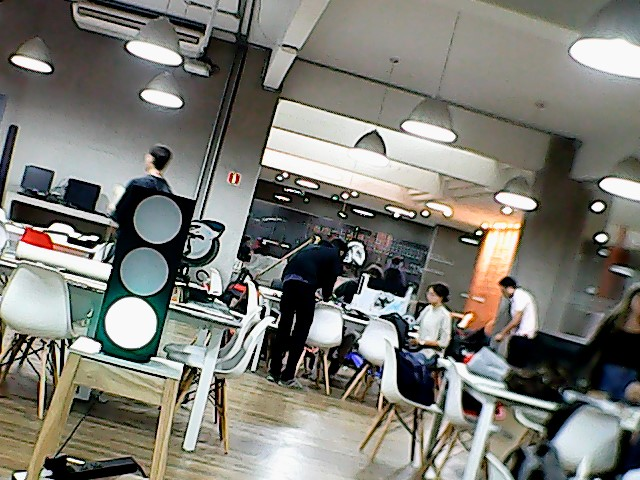verde: (78, 170, 202, 363)
